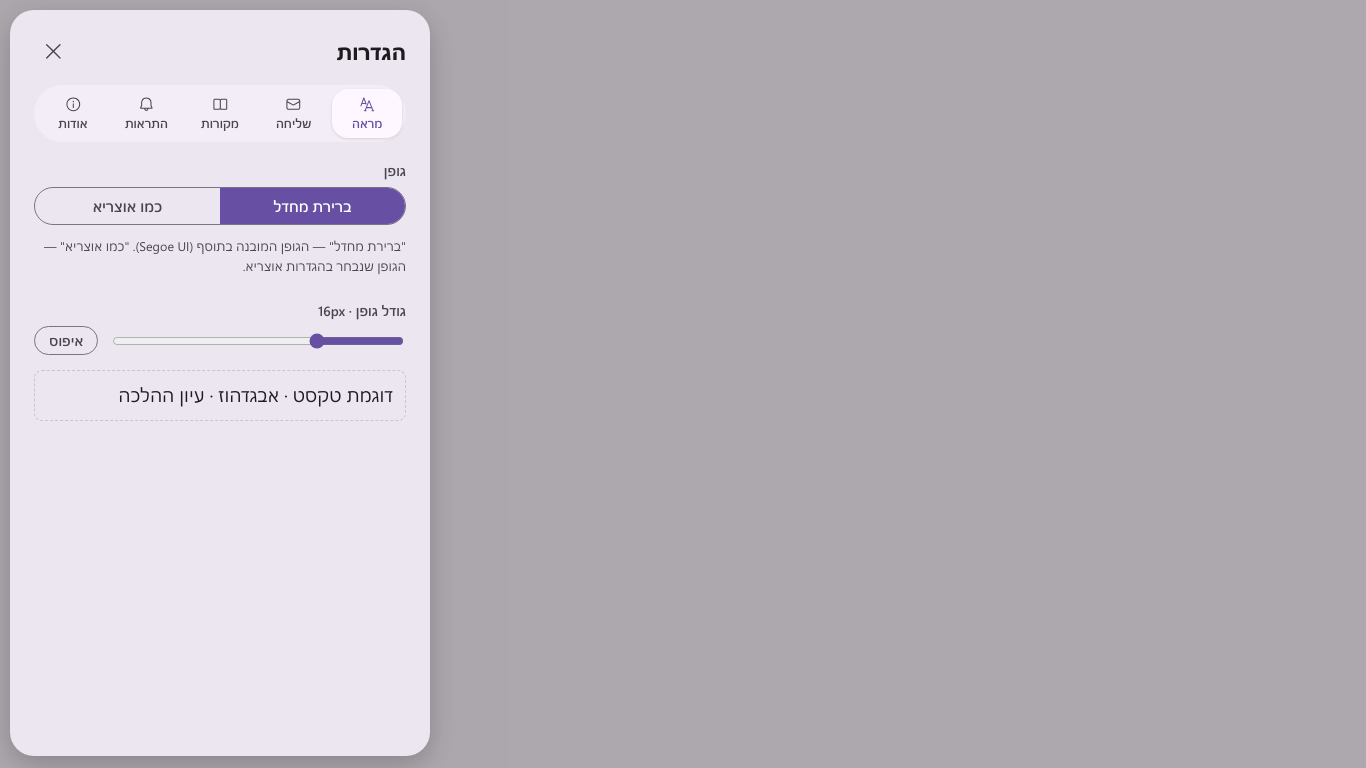
it: כרטיסיית מקורות › מציגה שדה לכל אחד מארבעת התפקידים
What coordinates should you click on to do the following:
click the button "מקורות"
I would click on:
 (220, 114)
Its box is [185,89,255,138].
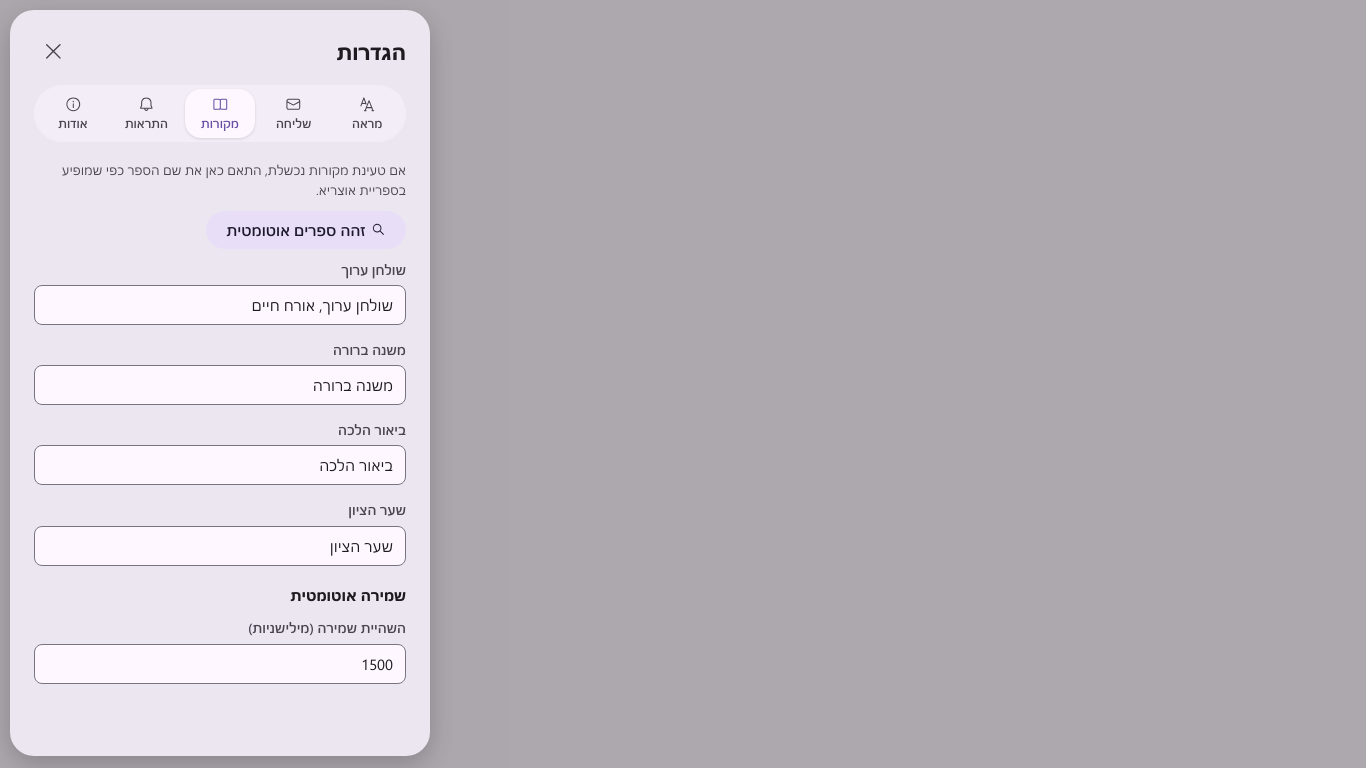
Check: the text "שולחן ערוך" is shown, box [342,261,406,278]
Check: the text "משנה ברורה" is shown, box [333,341,406,358]
Check: the text "ביאור הלכה" is shown, box [338,421,406,438]
